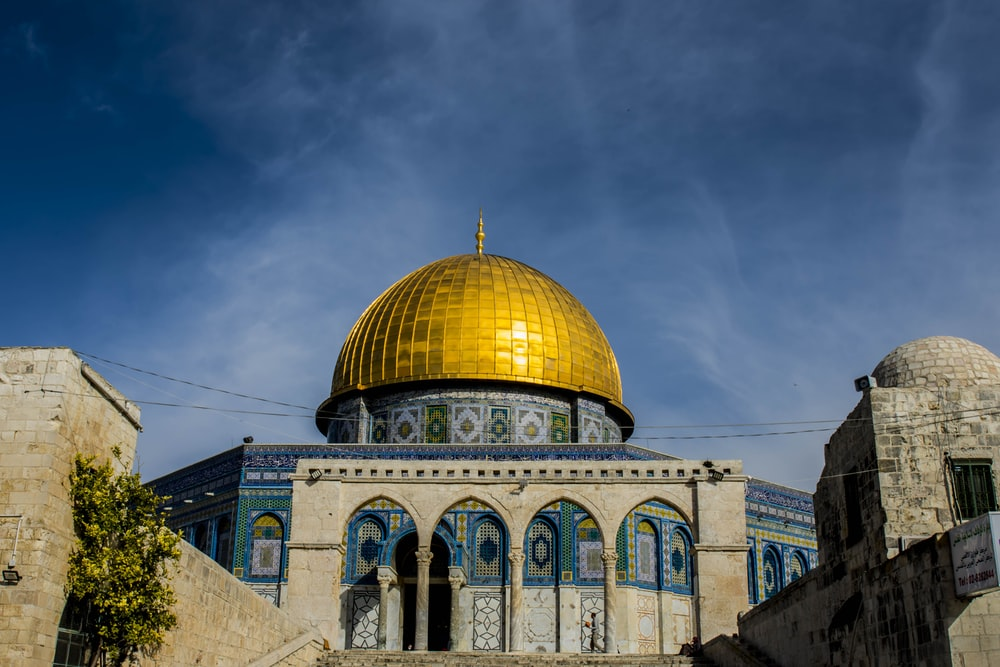Mosque: (195, 236, 800, 665)
